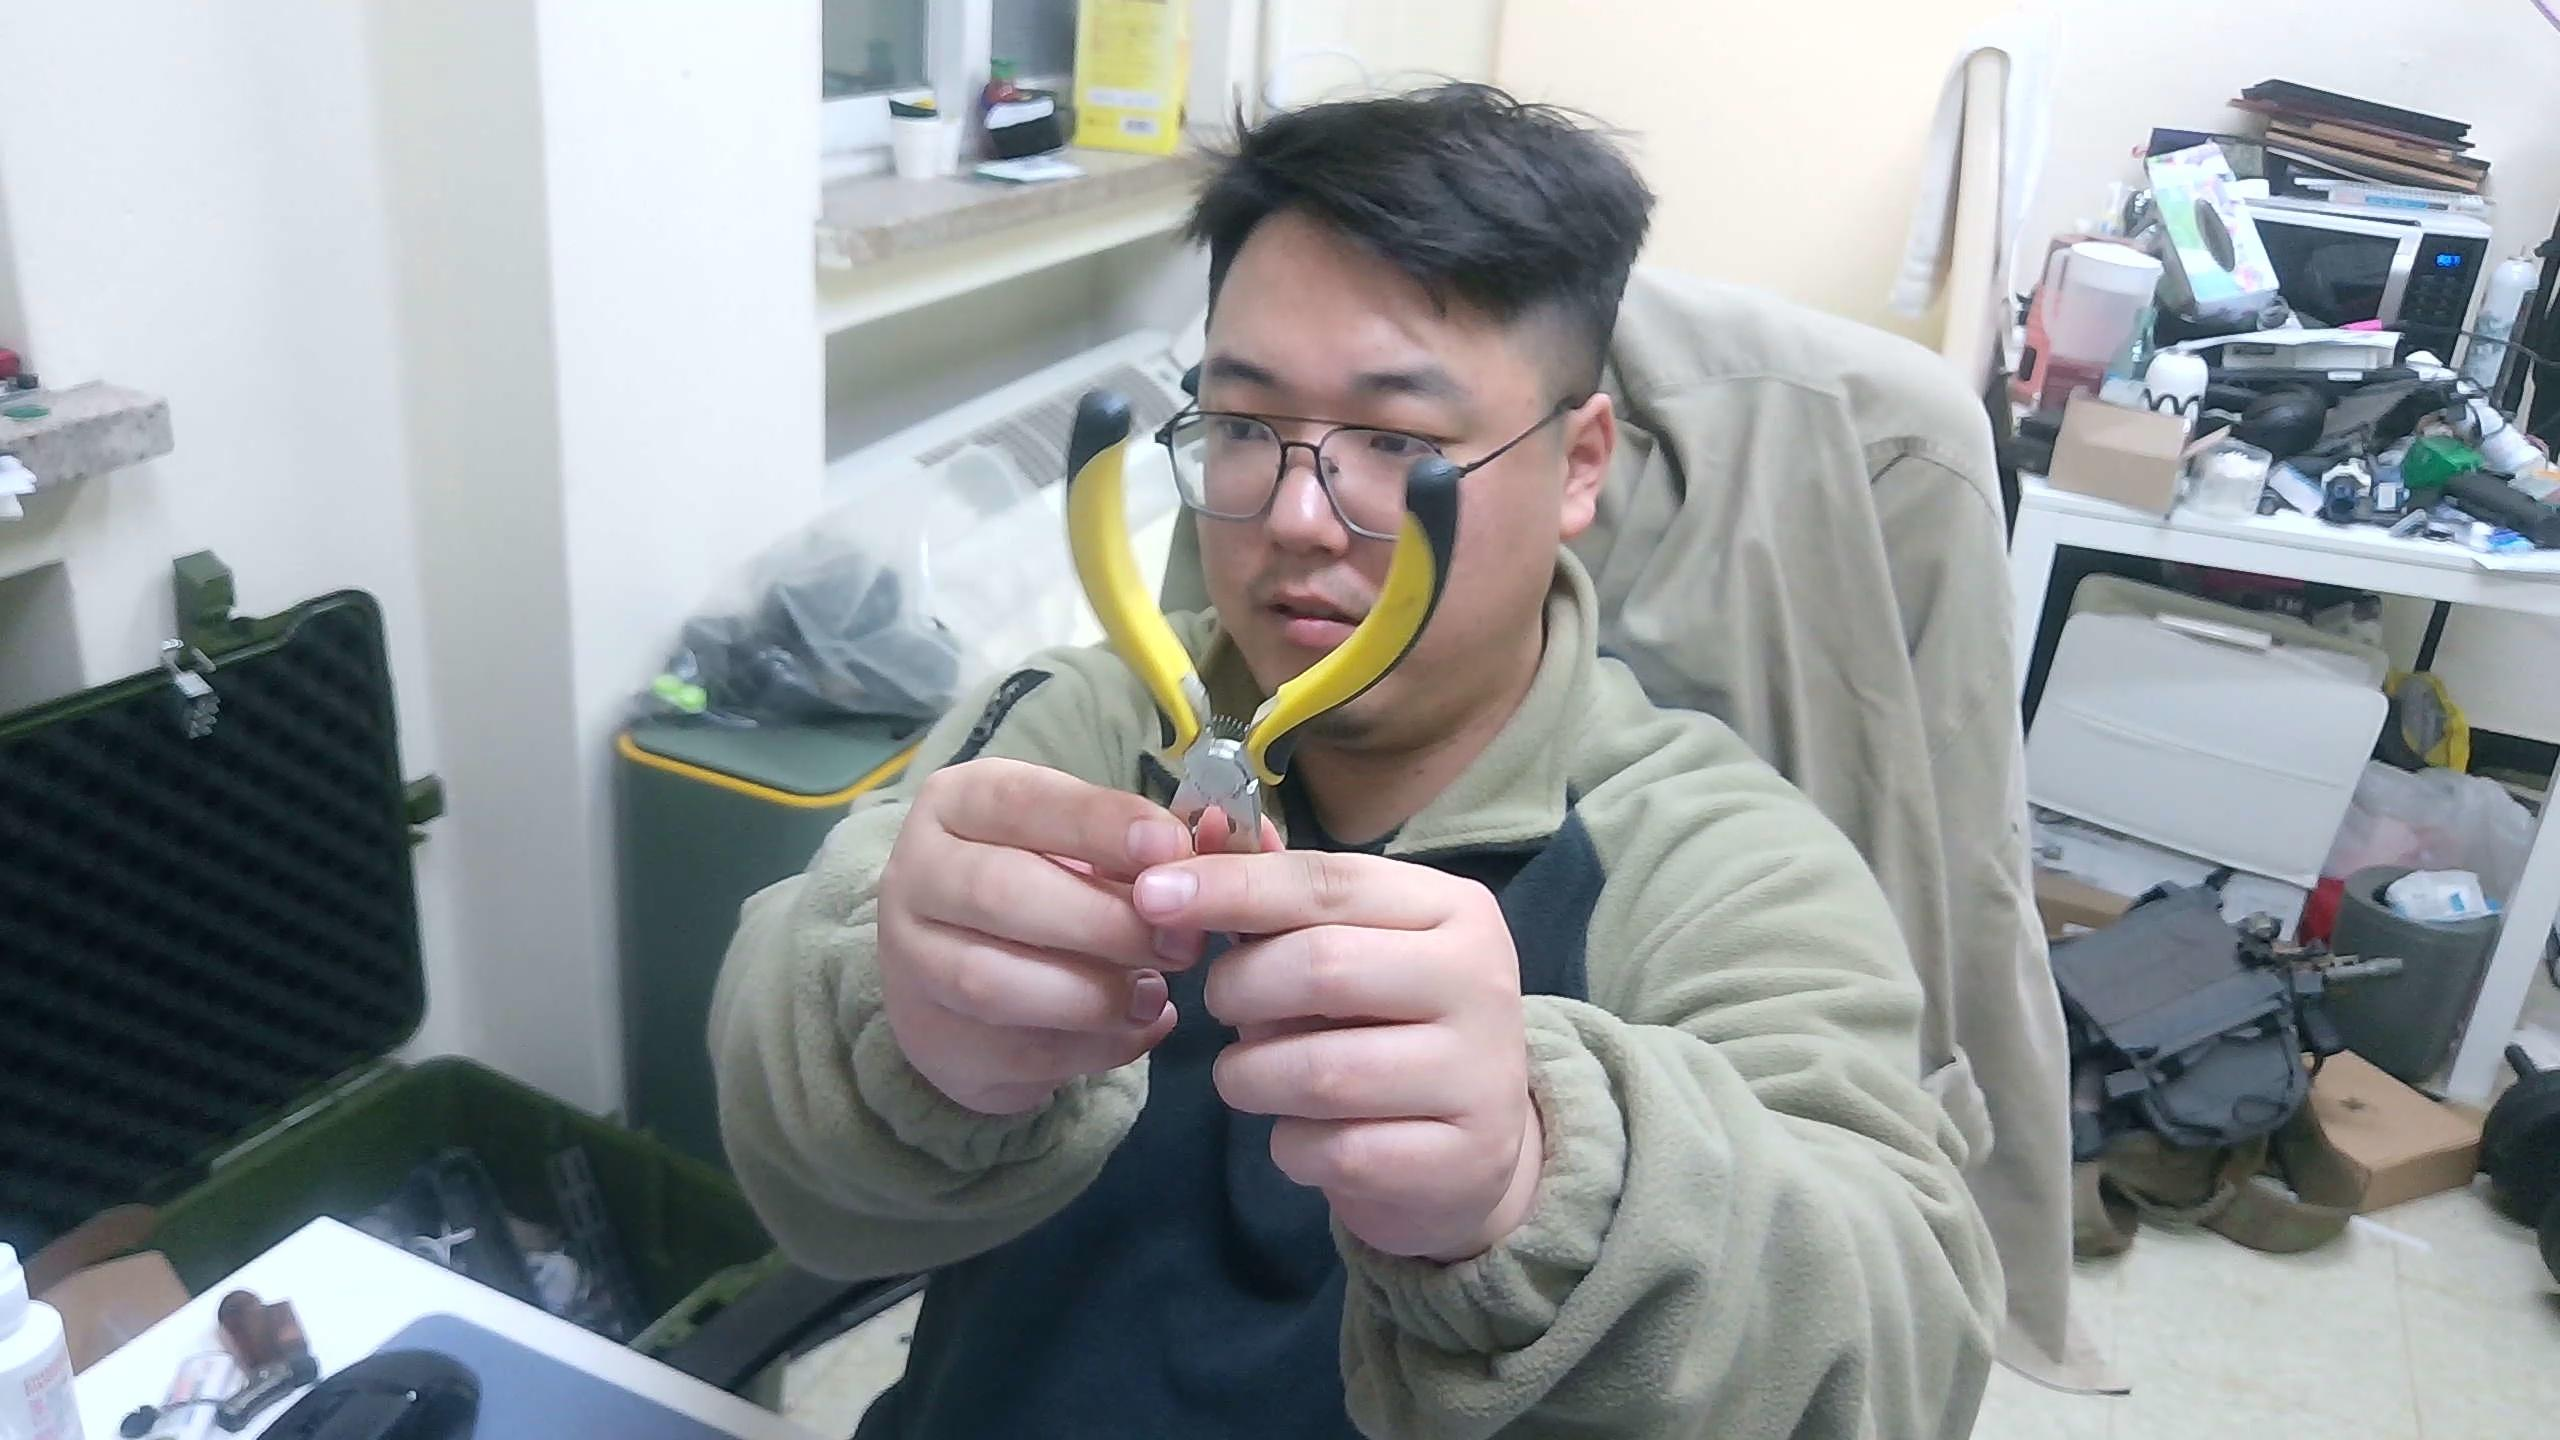earphone: (1062, 383, 1468, 858)
